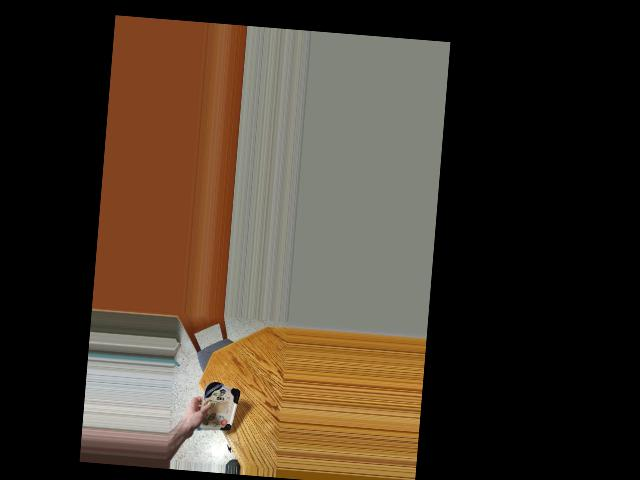cheese: (197, 379, 239, 443)
